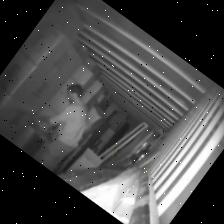person: (34, 84, 86, 170)
